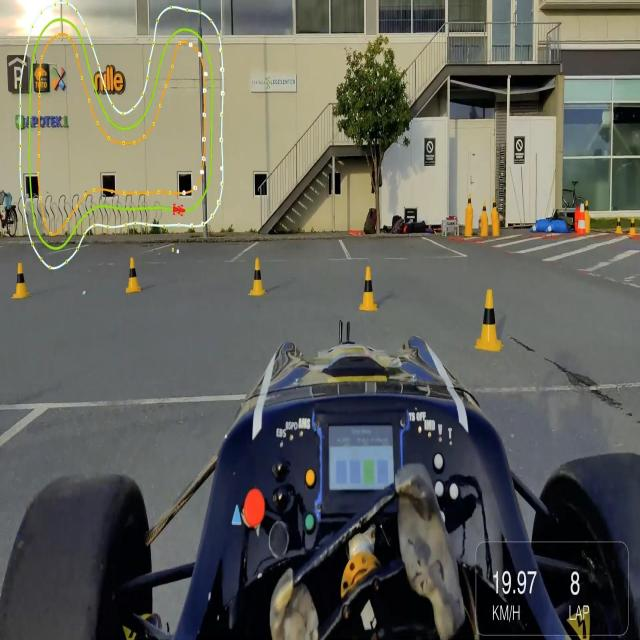large_orange_cone: (578, 202, 588, 236)
yellow_cone: (478, 281, 499, 356), (357, 260, 380, 314), (252, 254, 266, 305), (125, 256, 139, 296), (13, 262, 27, 298)
